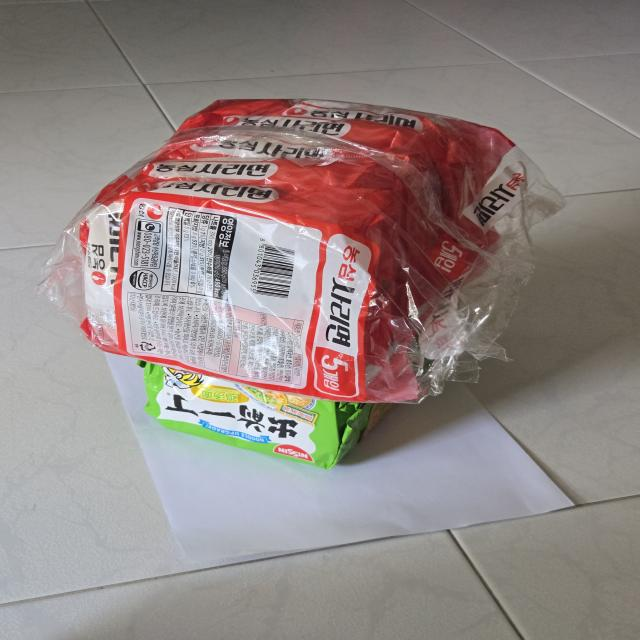instant-noodle: (43, 84, 567, 414), (131, 360, 395, 472)
